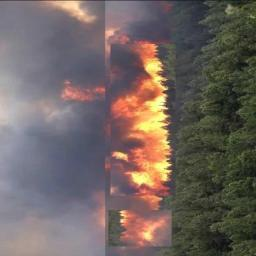Heavy smoke: (0, 0, 103, 255)
Large fire: (99, 0, 173, 252)
